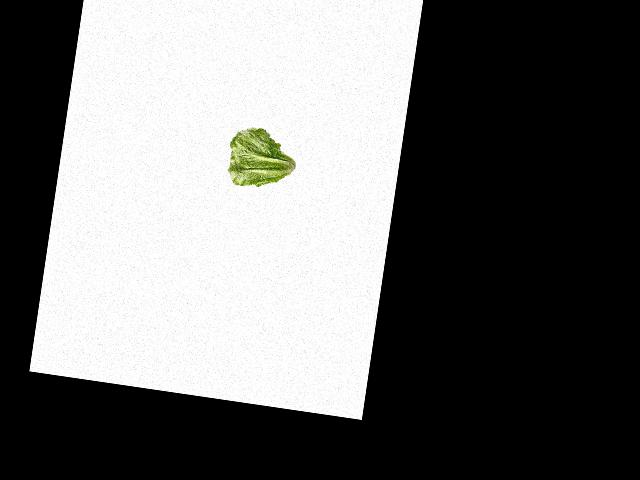lettuce: (223, 121, 304, 191)
